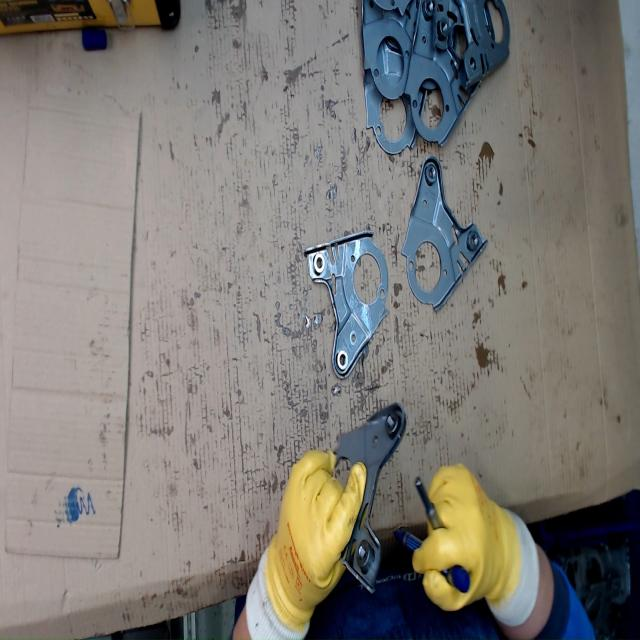hands: (266, 445, 372, 622), (411, 461, 521, 617)
